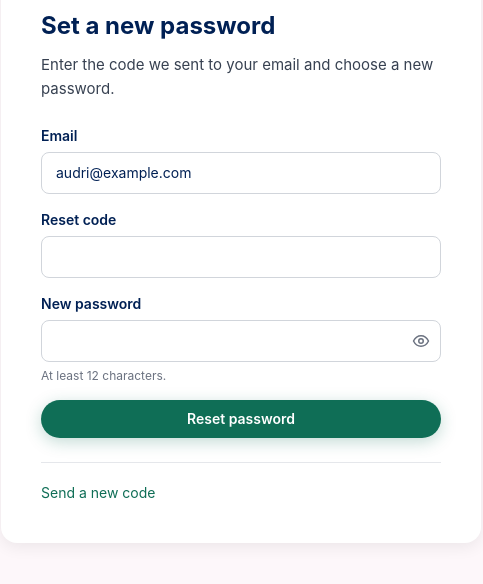
Scenario: ResetForgottenPasswordForm › blocks submission when the code is empty
Step 1. Type "Strong!Pass99" into the password field labelled "New password" → (241, 341), box [41, 320, 441, 362]
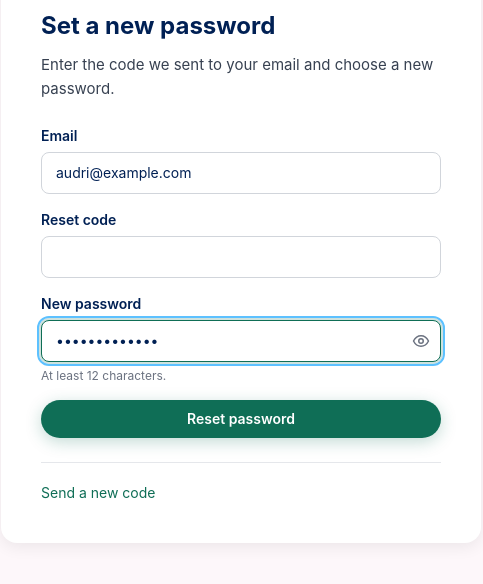
Step 2. Click the button "Reset password" → (241, 419), box [41, 400, 441, 438]
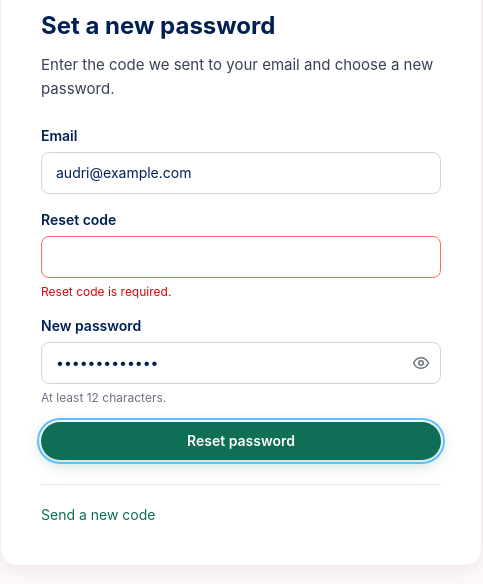
expect the text "Reset code is required." is shown: met, box [41, 284, 171, 299]
